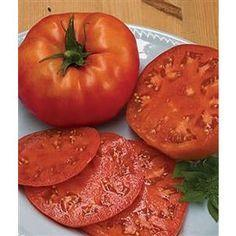healthy-tomato: (19, 14, 141, 128), (25, 133, 150, 225), (126, 45, 220, 163), (82, 142, 188, 236), (20, 128, 102, 188)
